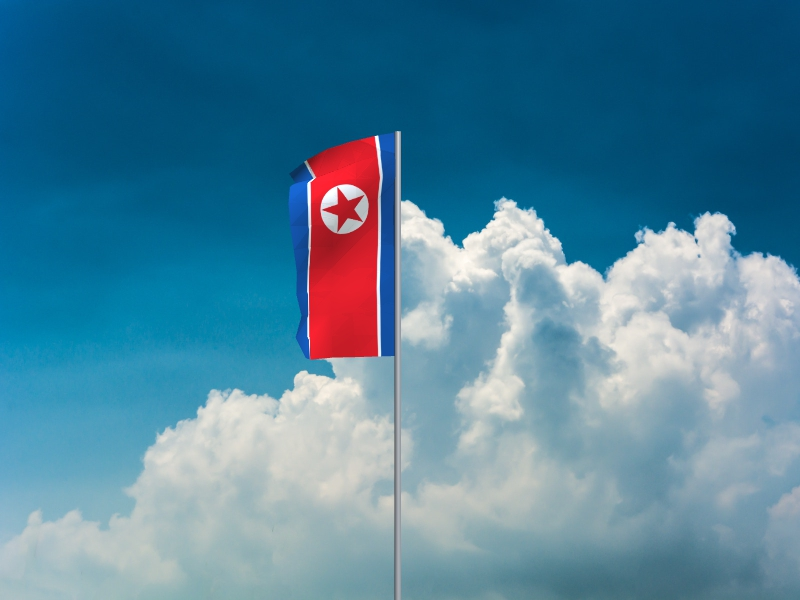kp: (287, 133, 395, 361)
